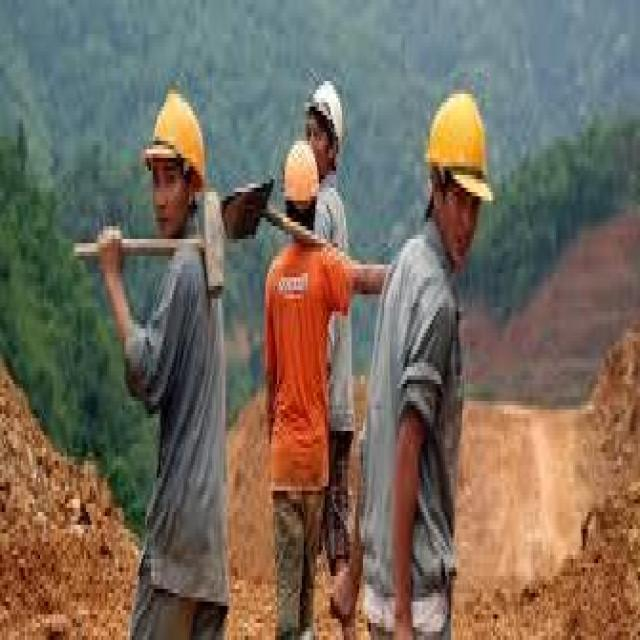safety_helmet: (417, 73, 501, 214), (139, 76, 216, 200), (297, 68, 351, 162), (275, 128, 325, 218)
